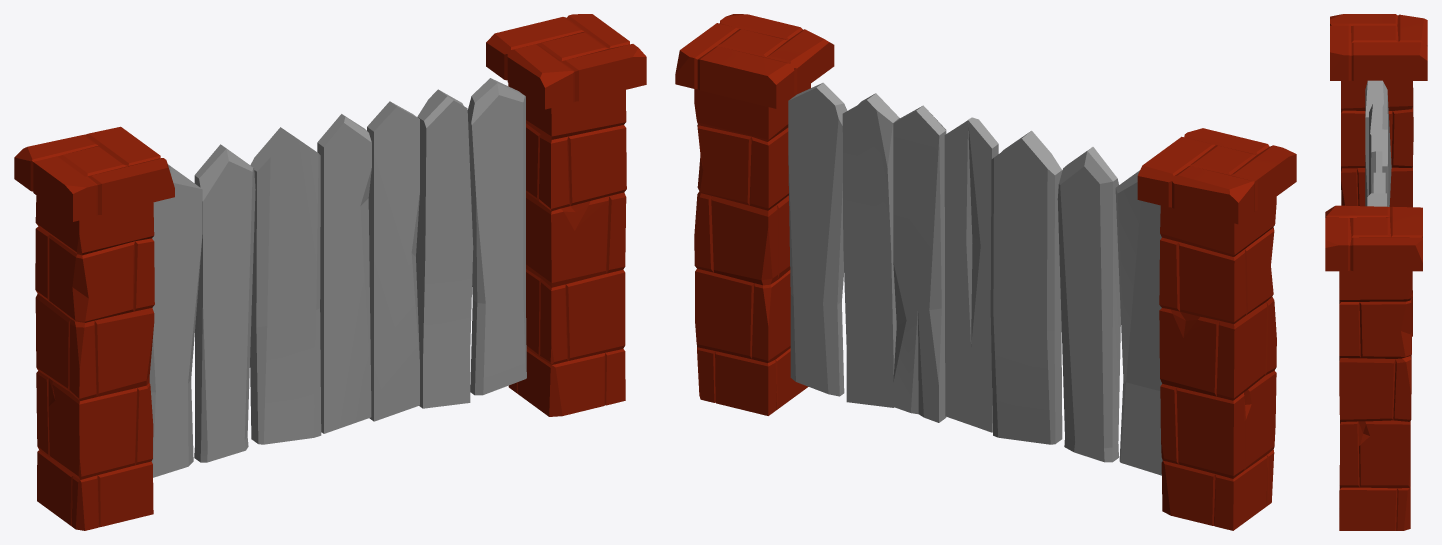
The model's file is Fence_6_2.fbx.
3 views of the same model, side by side, from view 1: azimuth 30°, elevation 25°; view 2: azimuth 150°, elevation 25°; view 3: azimuth 270°, elevation 25° (orthographic). The views are drawn at different scales.
Visible parts, largest first — view 1: Fence_6_2; view 2: Fence_6_2; view 3: Fence_6_2.
Part boxes in pixels (left/top/right/bottom): Fence_6_2: left=14, top=14, right=646, bottom=530; Fence_6_2: left=675, top=14, right=1296, bottom=530; Fence_6_2: left=1325, top=14, right=1427, bottom=530.
Bounding box in the file's own units: 59.9 × 35.1 × 11.19.
